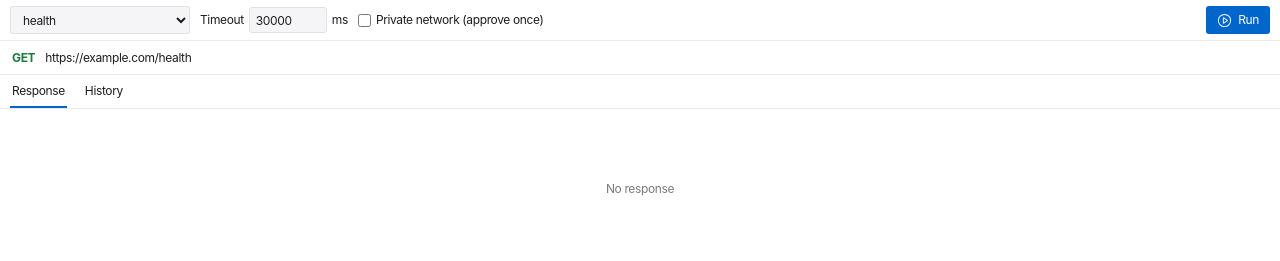
Test case: HTTPClientPanel › runs the request at the cursor and renders status, duration, headers, and JSON
Click the button with test id "http-run" at (1238, 20), box [1206,6,1270,34]
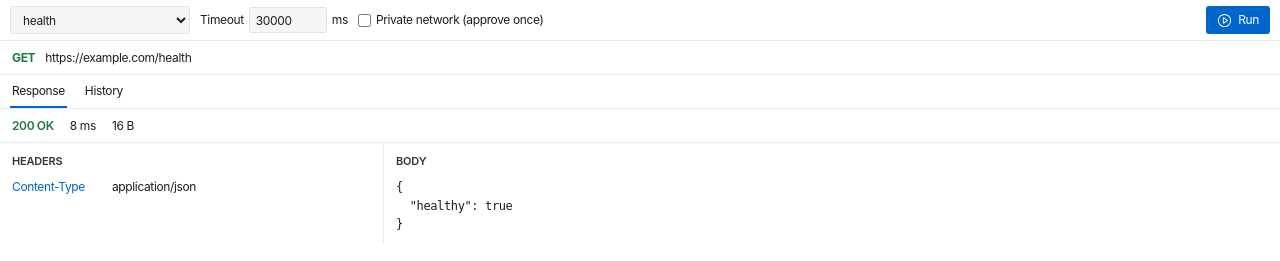
Now the text with test id "http-status" reads "200 OK", box [12,118,54,133]
Now the text with test id "http-duration" reads "8 ms", box [70,118,96,133]
Now the element with test id "http-response-headers" shows "Content-Type", box [12,179,85,194]
